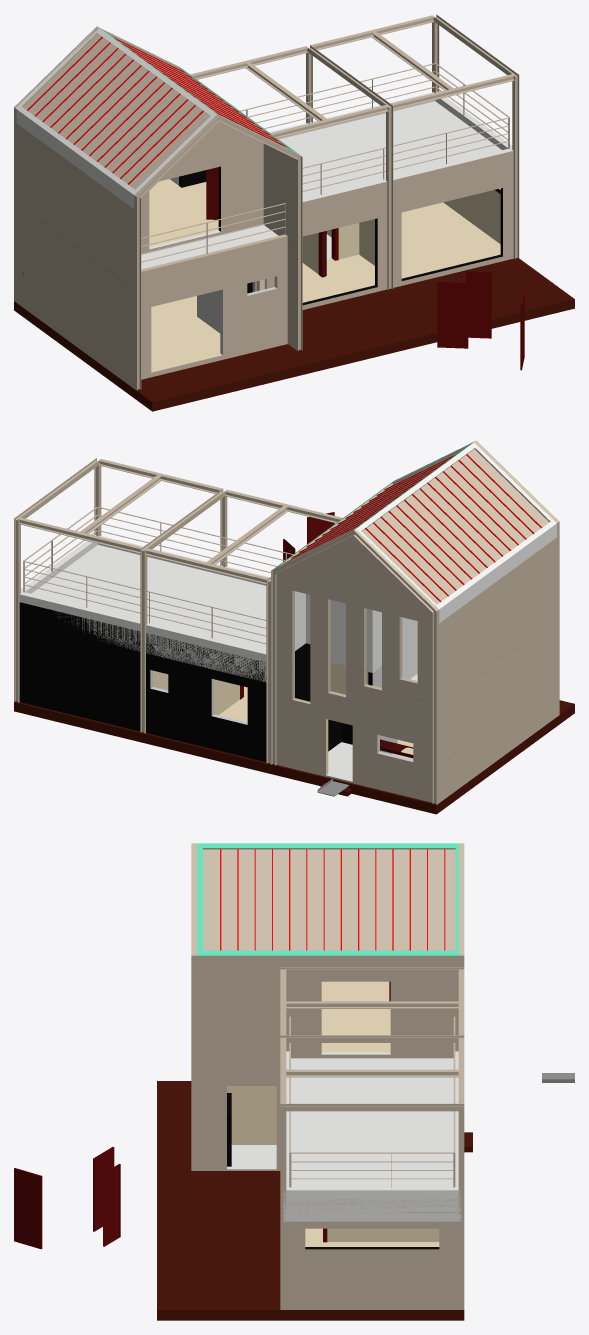
3 views of the same model, one above another, from view 1: azimuth 30°, elevation 25°; view 2: azimuth 150°, elevation 25°; view 3: azimuth 270°, elevation 25° (orthographic). The views are drawn at different scales.
Visible parts, largest first — view 1: imagetostl_mesh; view 2: imagetostl_mesh; view 3: imagetostl_mesh.
Boxes of the visible parts, box(x1,y1,x2,y2) form: imagetostl_mesh: box(14, 14, 574, 411); imagetostl_mesh: box(14, 440, 574, 814); imagetostl_mesh: box(14, 843, 574, 1320).
Size of the model in its own units: 557 by 332 by 577.
